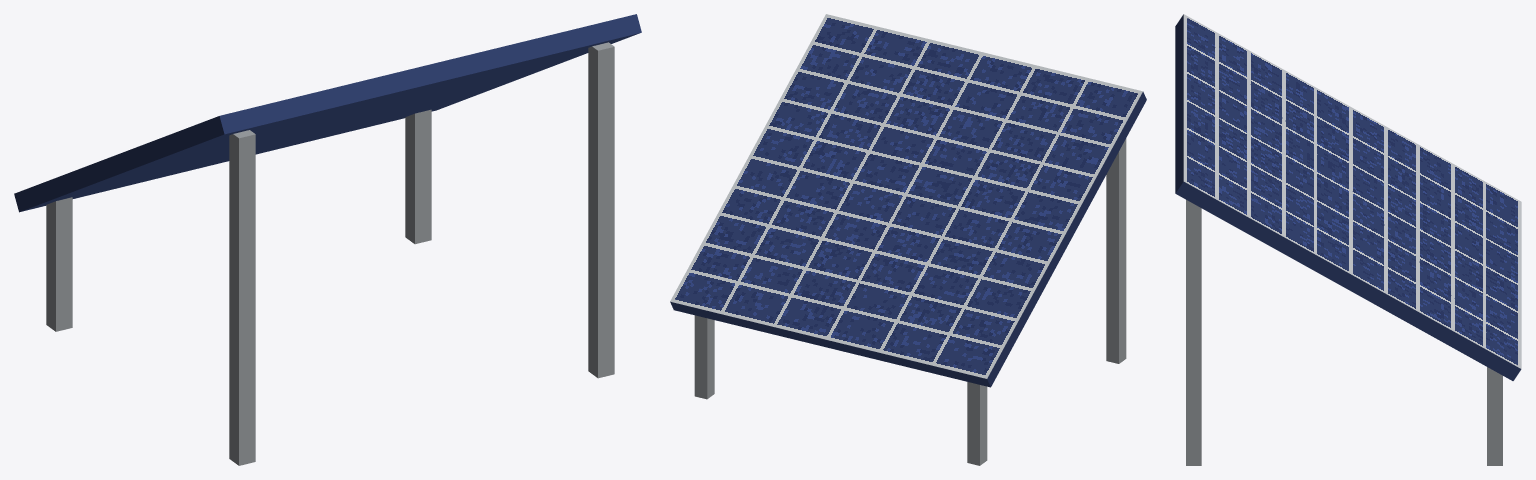
File: f_solar_unit.glb
The picture shows the model from 3 angles, left to right: view 1: azimuth 30°, elevation 25°; view 2: azimuth 150°, elevation 25°; view 3: azimuth 270°, elevation 25°; orthographic projection. The views are drawn at different scales.
Visible parts, largest first — view 1: block_panel, block_post-0.450.36, block_post0.410.36, block_post0.41-0.4, block_post-0.45-0.4; view 2: block_panel, block_post-0.450.36, block_post-0.45-0.4, block_post0.41-0.4; view 3: block_panel, block_post0.410.36, block_post0.41-0.4.
Part boxes in pixels (box(x1,y1,x2,y2)): block_panel: box(14, 14, 641, 212); block_post-0.450.36: box(229, 130, 255, 465); block_post0.410.36: box(588, 42, 614, 378); block_post0.41-0.4: box(405, 109, 431, 244); block_post-0.45-0.4: box(46, 197, 72, 331); block_panel: box(670, 14, 1146, 387); block_post-0.450.36: box(1106, 138, 1126, 363); block_post-0.45-0.4: box(967, 382, 987, 465); block_post0.41-0.4: box(694, 315, 714, 399); block_panel: box(1175, 14, 1521, 380); block_post0.410.36: box(1186, 200, 1201, 465); block_post0.41-0.4: box(1487, 367, 1502, 465).
Bounding box in the file's own units: 1 × 0.8154 × 0.8734.
2 materials, 2 textured.
